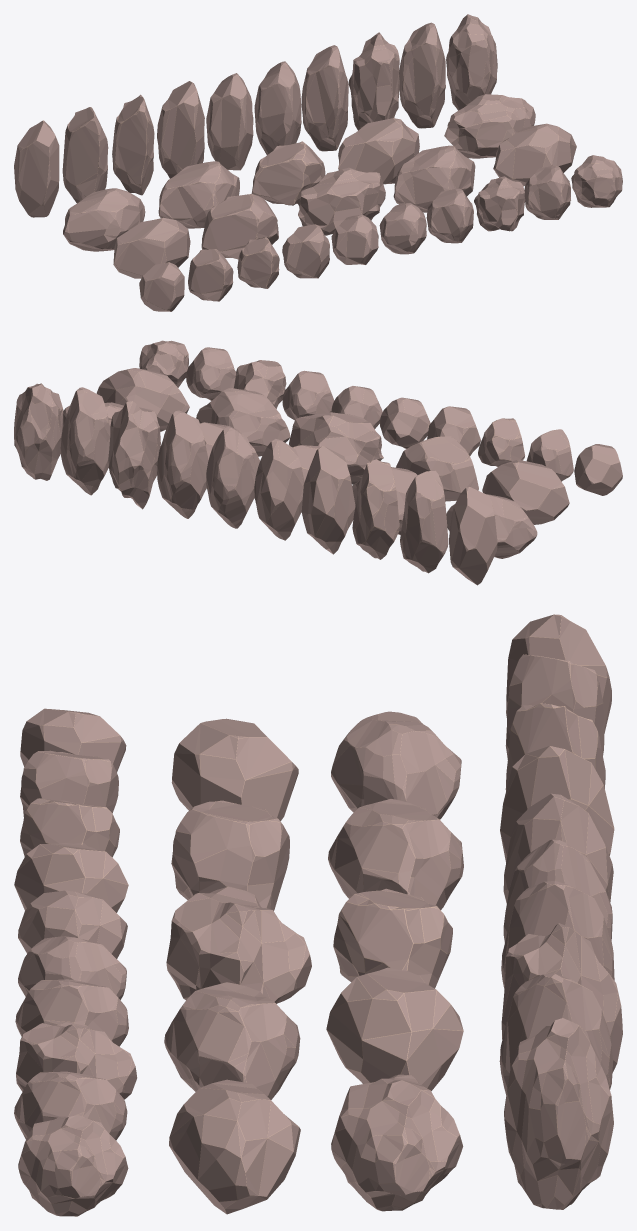
File: Rock.fbx
3 renders of one model, top to bottom at view 1: azimuth 30°, elevation 25°; view 2: azimuth 150°, elevation 25°; view 3: azimuth 270°, elevation 25°, orthographic. The views are drawn at different scales.
Parts seen in each view (by area): view 1: Cube.029, Cube.027, Cube.016, Cube.018, Cube.025, Cube.017, Cube.019, Cube.026, Cube.014, Cube.023, Cube.028, Cube.009 (+18 smaller); view 2: Cube.017, Cube.013, Cube.016, Cube.018, Cube.019, Cube.008, Cube.015, Cube.014, Cube.009, Cube.027, Cube.012, Cube.021 (+17 smaller); view 3: Cube.019, Cube.029, Cube.024, Cube.023, Cube.027, Cube.028, Cube.026, Cube.025, Cube.020, Cube.021, Cube.022, Cube.007 (+18 smaller).
Boxes of the visible parts, x1,y1,x2,y2 form: Cube.029: (444, 94, 535, 158); Cube.027: (297, 167, 385, 235); Cube.016: (301, 45, 348, 151); Cube.018: (399, 22, 445, 128); Cube.025: (63, 188, 145, 251); Cube.017: (348, 32, 399, 130); Cube.019: (446, 14, 497, 110); Cube.026: (158, 161, 239, 228); Cube.014: (206, 73, 253, 170); Cube.023: (338, 118, 419, 184); Cube.028: (393, 145, 475, 212); Cube.009: (14, 120, 59, 217); Cube.017: (108, 401, 160, 509); Cube.013: (301, 446, 355, 554); Cube.016: (157, 410, 208, 518); Cube.018: (60, 387, 110, 495); Cube.019: (14, 383, 63, 480); Cube.008: (400, 470, 448, 573); Cube.015: (206, 427, 256, 528); Cube.014: (254, 439, 304, 540); Cube.009: (449, 487, 497, 585); Cube.027: (289, 412, 383, 484); Cube.012: (352, 459, 399, 559); Cube.021: (482, 460, 569, 524); Cube.019: (504, 1018, 613, 1209); Cube.029: (331, 1074, 463, 1211); Cube.024: (169, 1079, 300, 1214); Cube.023: (326, 967, 463, 1091); Cube.027: (166, 886, 311, 1003); Cube.028: (164, 982, 300, 1099); Cube.026: (328, 799, 463, 909); Cube.025: (331, 711, 461, 819); Cube.020: (171, 800, 289, 910); Cube.021: (171, 718, 298, 820); Cube.022: (333, 888, 452, 988); Cube.007: (18, 1115, 128, 1216).
Size of the model in its own units: 1993 by 431 by 1128.
